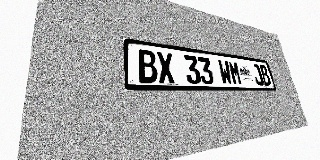3: (184, 55, 202, 84), (197, 57, 214, 84)
B: (137, 49, 158, 83), (259, 64, 272, 86)
J: (251, 63, 264, 85)
M: (228, 60, 243, 85)
W: (217, 59, 233, 85)
X: (156, 51, 176, 84)
